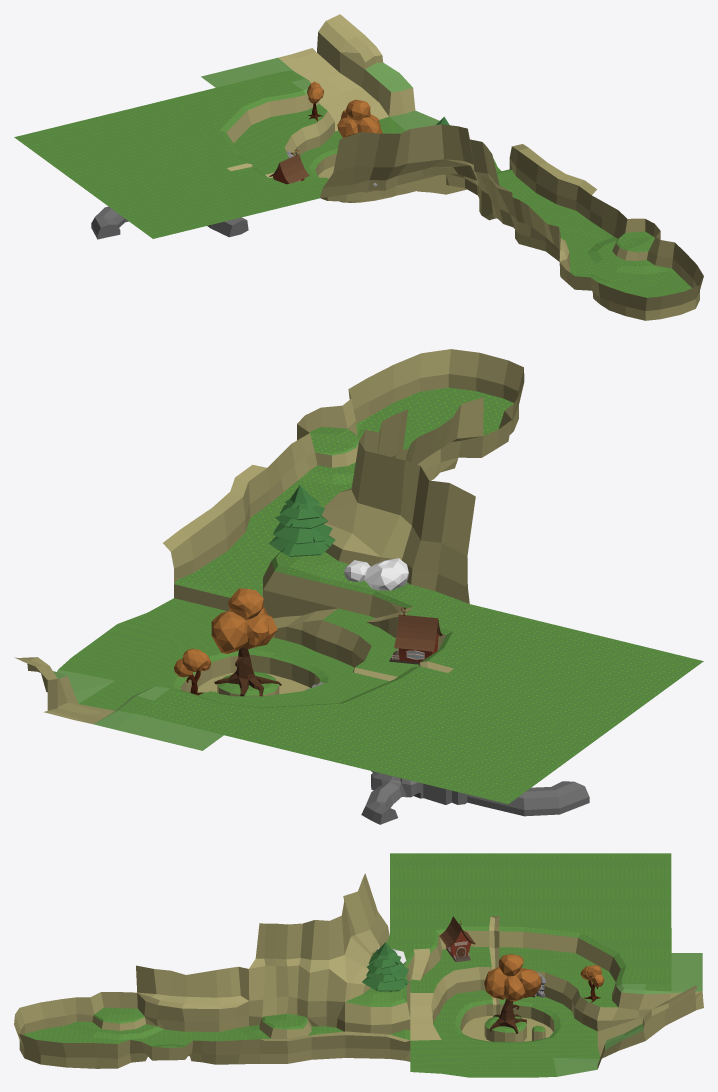
Rendered from MG Town.glb.
3 renders of one model, top to bottom at view 1: azimuth 30°, elevation 25°; view 2: azimuth 150°, elevation 25°; view 3: azimuth 270°, elevation 25°, orthographic. The views are drawn at different scales.
Visible parts, largest first — view 1: Mine Town Terrain-col, Mine Hub-col, Leaves, House-col; view 2: Mine Town Terrain-col, Mine Hub-col, Pine "leaves", Leaves, House-col, Boulder-col, Tree-col, Leaves 1; view 3: Mine Town Terrain-col, Leaves, Pine "leaves", House-col, Tree-col, Leaves 1.
Boxes of the visible parts, x1,y1,x2,y2 form: Mine Town Terrain-col: (14, 14, 703, 320); Mine Hub-col: (91, 206, 248, 239); Leaves: (337, 99, 382, 138); House-col: (269, 154, 309, 184); Mine Town Terrain-col: (14, 349, 703, 804); Mine Hub-col: (361, 771, 589, 824); Pine "leaves": (269, 485, 335, 556); Leaves: (211, 588, 277, 653); House-col: (389, 614, 442, 664); Boulder-col: (364, 558, 408, 590); Tree-col: (214, 647, 281, 696); Leaves 1: (174, 648, 210, 677); Mine Town Terrain-col: (14, 853, 703, 1077); Leaves: (484, 954, 541, 1001); Pine "leaves": (362, 942, 409, 991); House-col: (439, 916, 475, 962); Tree-col: (489, 998, 526, 1033); Leaves 1: (580, 965, 604, 986).
Size of the model in its own units: 155 by 48.45 by 233.
22 materials, 1 textured.
